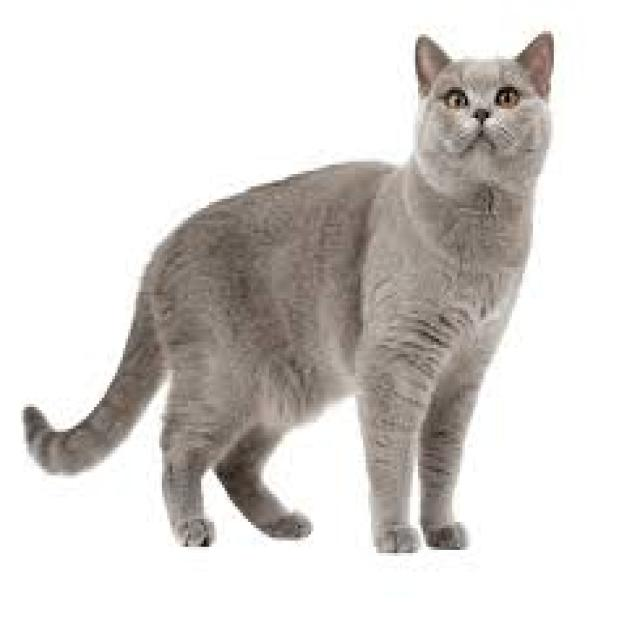british shorthair: (25, 51, 640, 640)
